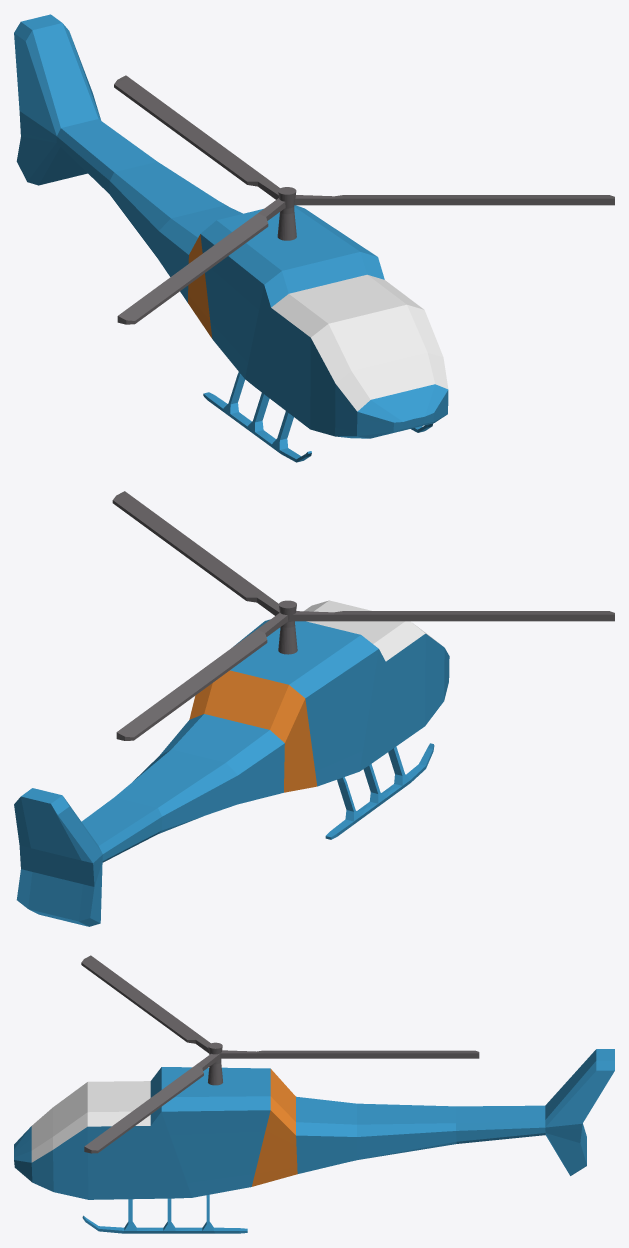
Rendered from helicopter.glb.
The picture shows the model from 3 angles, top to bottom: view 1: azimuth 30°, elevation 25°; view 2: azimuth 150°, elevation 25°; view 3: azimuth 270°, elevation 25°; orthographic projection. The views are drawn at different scales.
Visible parts, largest first — view 1: Cube; view 2: Cube; view 3: Cube.
Part boxes in pixels (<box>): Cube: <box>14,14,614,462</box>; Cube: <box>14,491,614,926</box>; Cube: <box>14,955,614,1233</box>.
Size of the model in its own units: 6.35 by 2.5 by 8.36.
